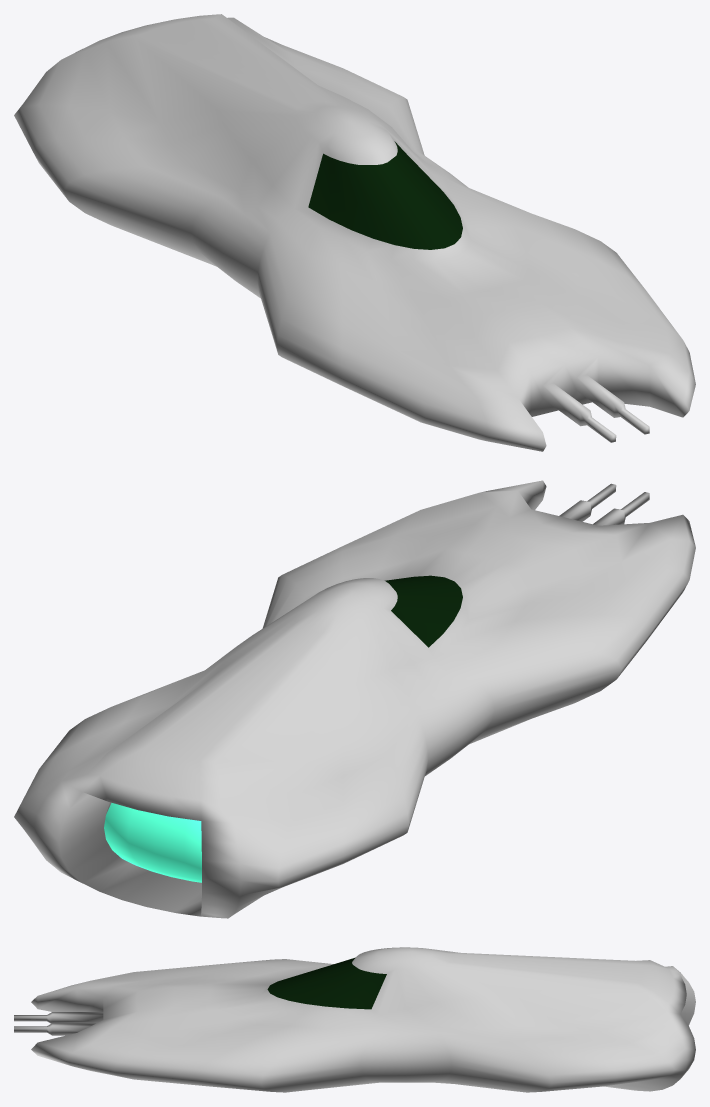
The model's file is frigate.fbx.
3 renders of one model, top to bottom at view 1: azimuth 30°, elevation 25°; view 2: azimuth 150°, elevation 25°; view 3: azimuth 270°, elevation 25°, orthographic. The views are drawn at different scales.
Parts seen in each view (by area): view 1: Cube; view 2: Cube; view 3: Cube.
Part boxes in pixels (x1=…): Cube: x1=14, y1=14, x2=695, y2=451; Cube: x1=14, y1=480, x2=695, y2=918; Cube: x1=14, y1=947, x2=695, y2=1092.
Bounding box in the file's own units: 214 × 110 × 538.
